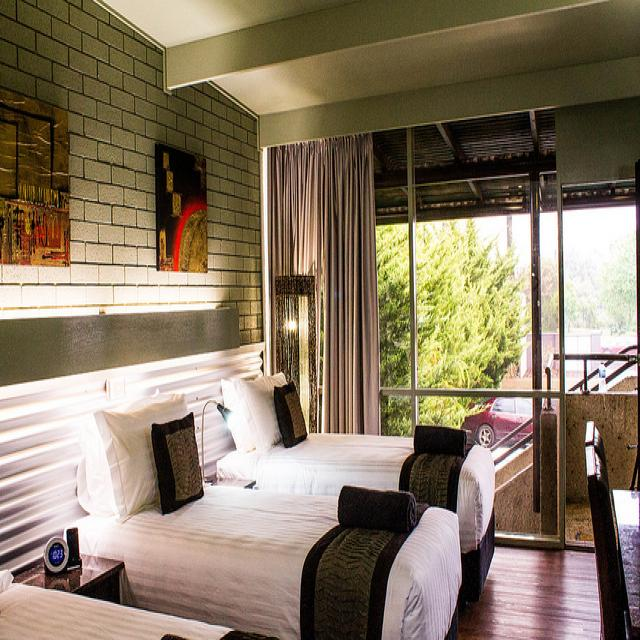Vehicle: (462, 398, 532, 444)
